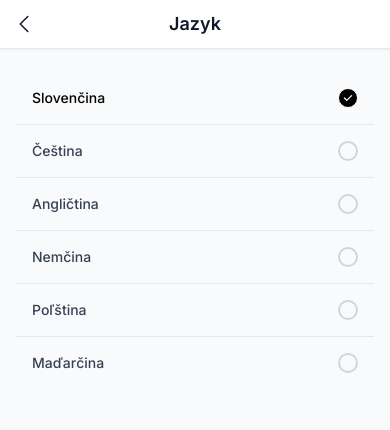
it: mobile language settings header with the real language provider › updates the mobile header and persists choosing en
The image size is (390, 430).
Click the button "Angličtina": (65, 204) [16,178,374,230]
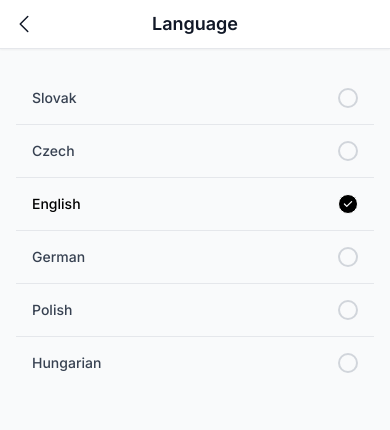
Expected: the 2nd icon is shown, [342,198,354,210]
Expected: the heading "Language" is shown, [152,13,238,35]
